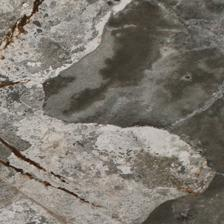Crack: (86, 45, 136, 84)
